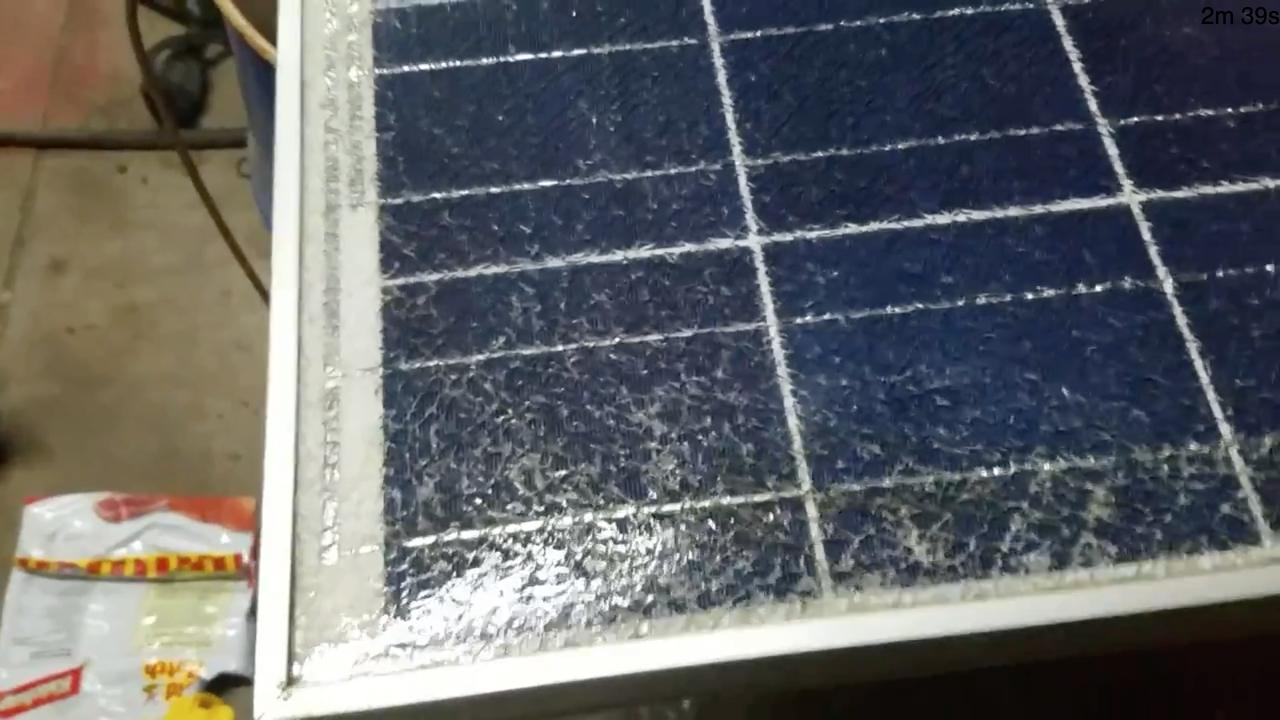Crack: (390, 274, 780, 512), (861, 418, 1208, 578)
